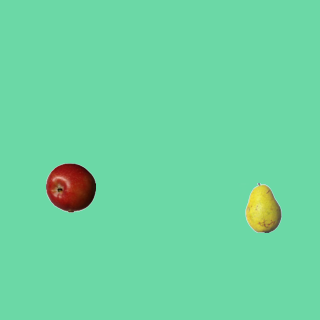Apple Braeburn: (45, 162, 95, 212)
Pear Monster: (238, 182, 288, 232)
